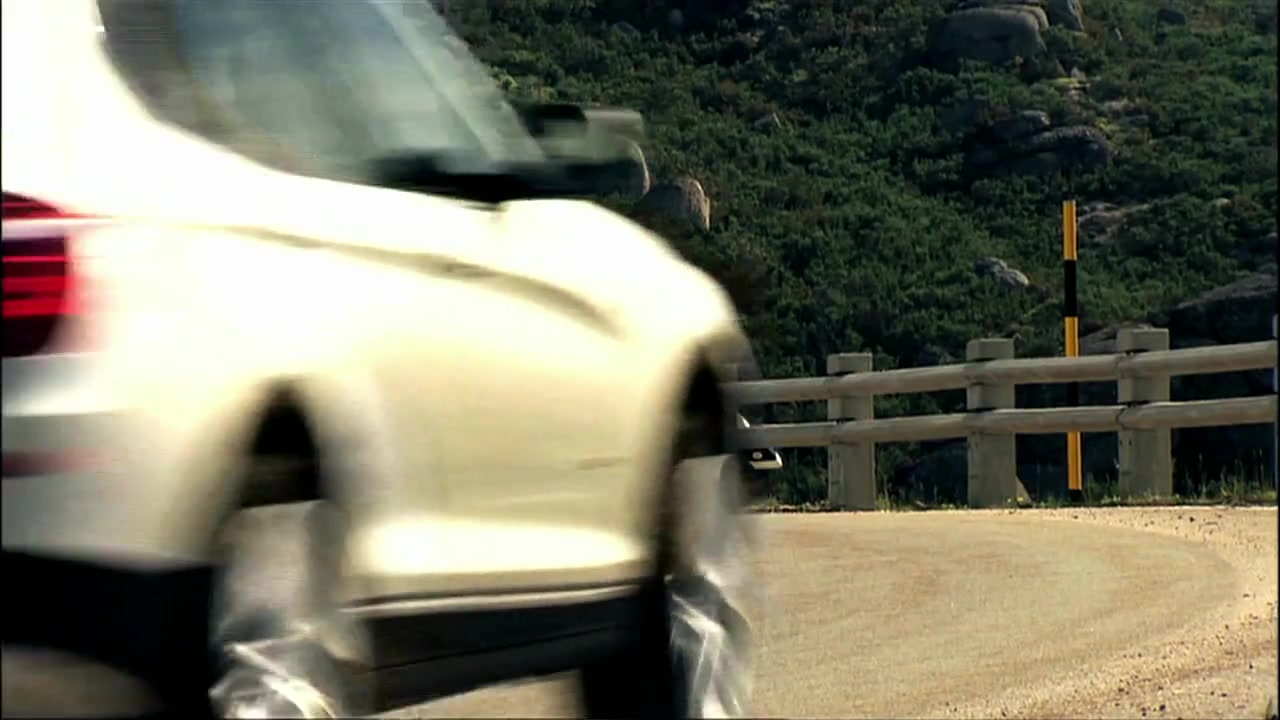car: (3, 2, 762, 720)
